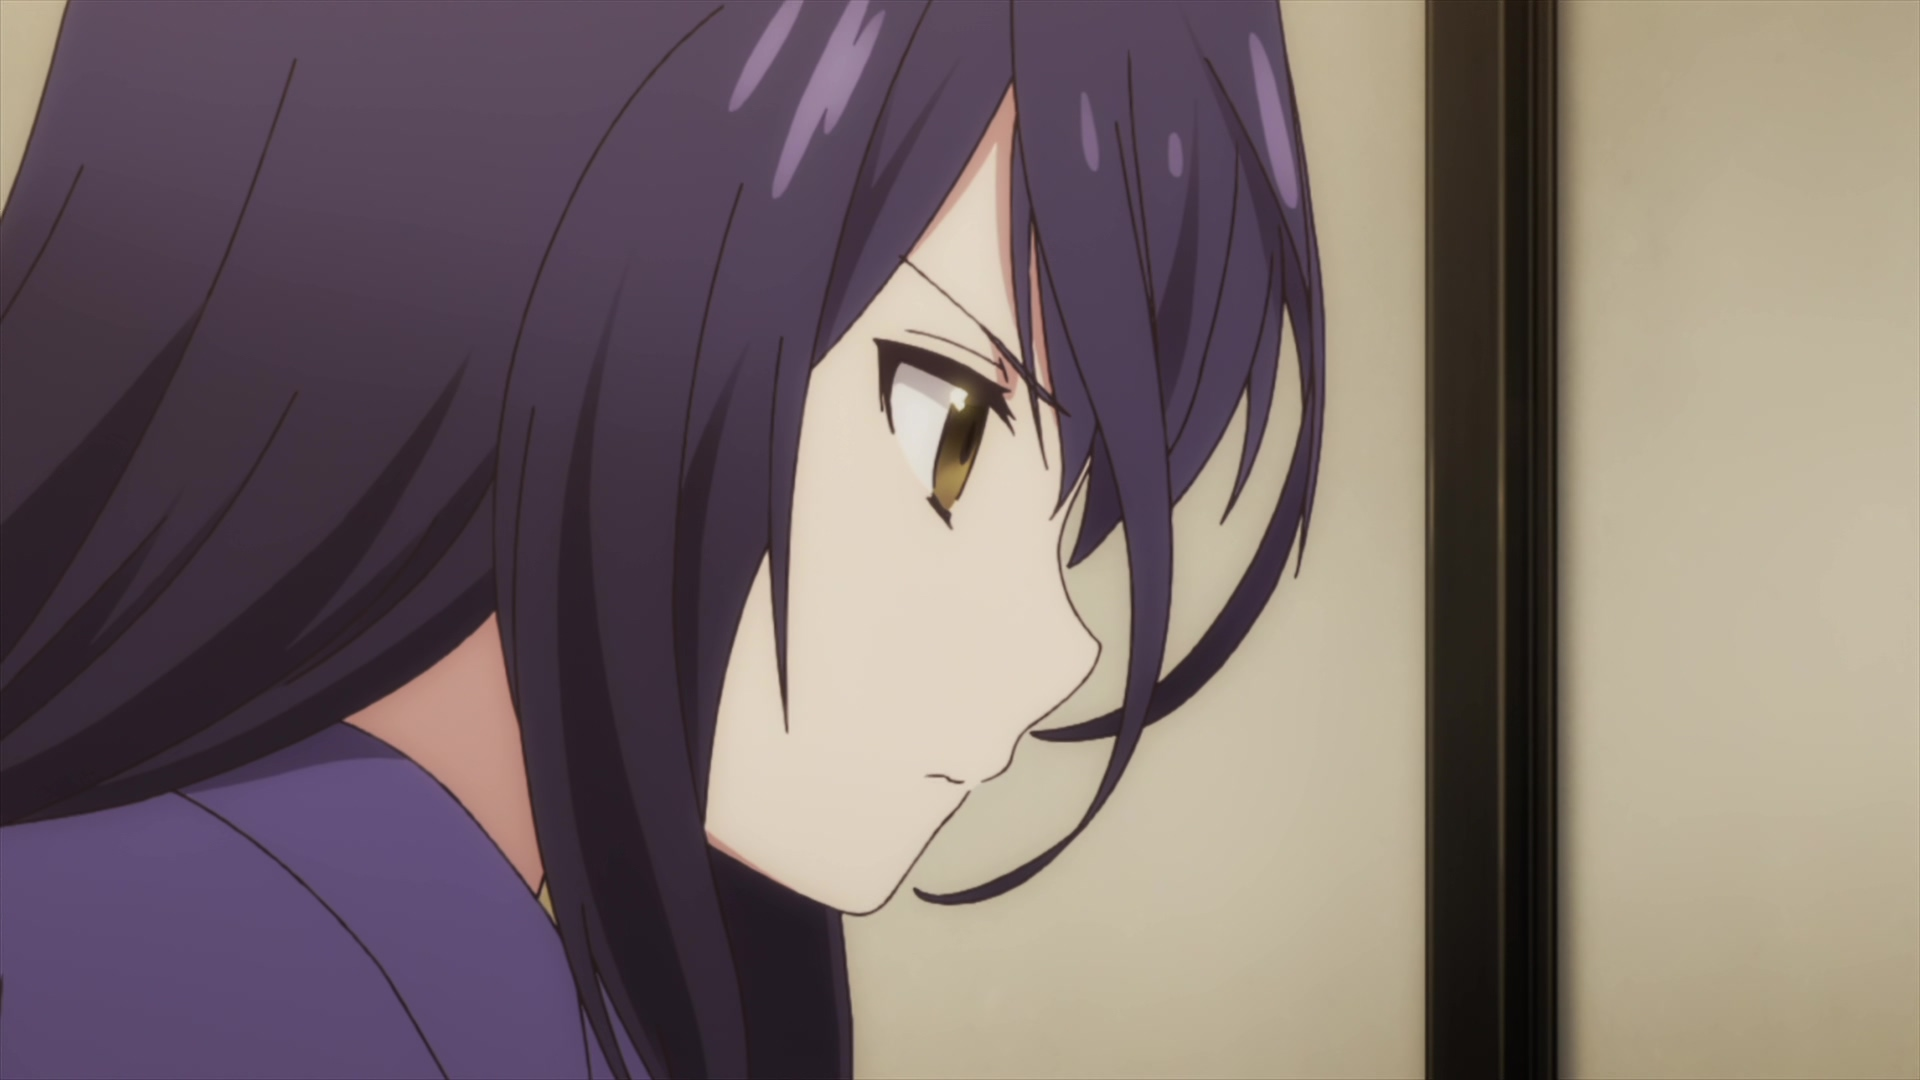皋: (1, 1, 1327, 1080)
